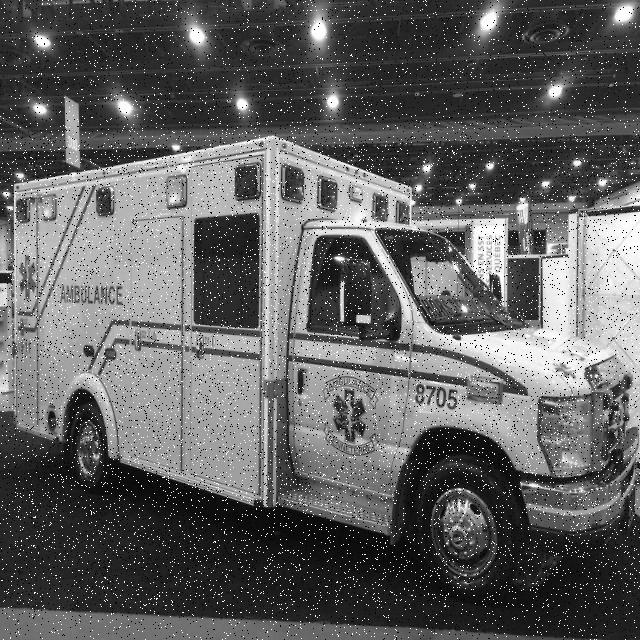Ambulance: (6, 136, 640, 607)
